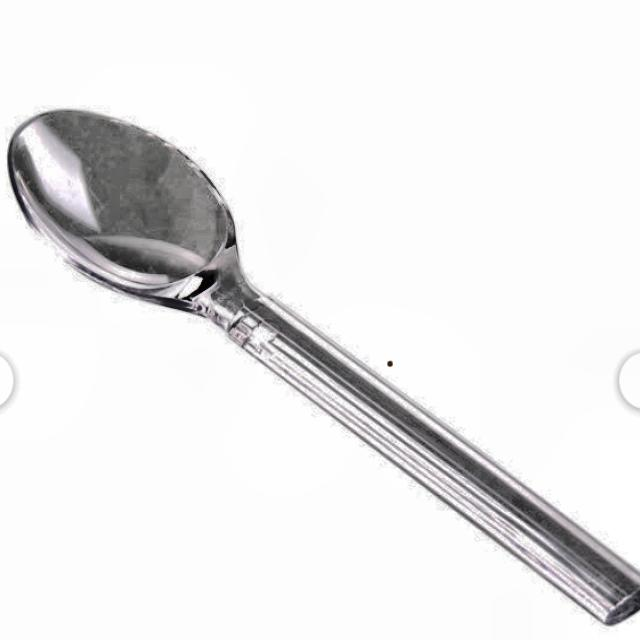plastic utensil: (10, 110, 640, 617)
